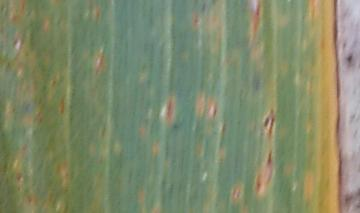tarspot: (262, 109, 275, 138), (254, 1, 262, 19), (266, 148, 272, 166), (199, 1, 206, 14), (345, 54, 352, 66), (171, 123, 180, 130)
